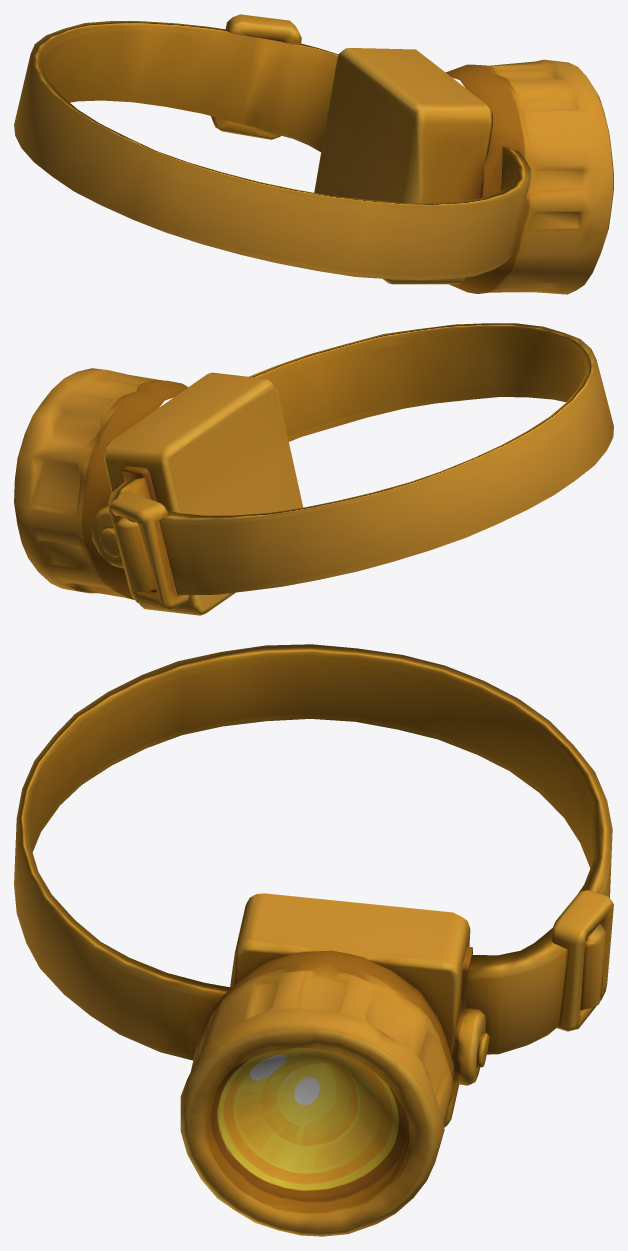
The model's file is headlamp-r4.glb.
The picture shows the model from 3 angles, top to bottom: view 1: azimuth 30°, elevation 25°; view 2: azimuth 150°, elevation 25°; view 3: azimuth 270°, elevation 25°; orthographic projection. The views are drawn at different scales.
Visible parts, largest first — view 1: tripo_node_5892b18f-96f0-40e2-b287-8a579b1dfa9a; view 2: tripo_node_5892b18f-96f0-40e2-b287-8a579b1dfa9a; view 3: tripo_node_5892b18f-96f0-40e2-b287-8a579b1dfa9a.
Boxes of the visible parts, x1=… form: tripo_node_5892b18f-96f0-40e2-b287-8a579b1dfa9a: x1=14, y1=14, x2=613, y2=294; tripo_node_5892b18f-96f0-40e2-b287-8a579b1dfa9a: x1=14, y1=323, x2=613, y2=615; tripo_node_5892b18f-96f0-40e2-b287-8a579b1dfa9a: x1=14, y1=644, x2=613, y2=1236.
Bounding box in the file's own units: 0.998 × 0.5254 × 0.8652.
1 material, 1 textured.
